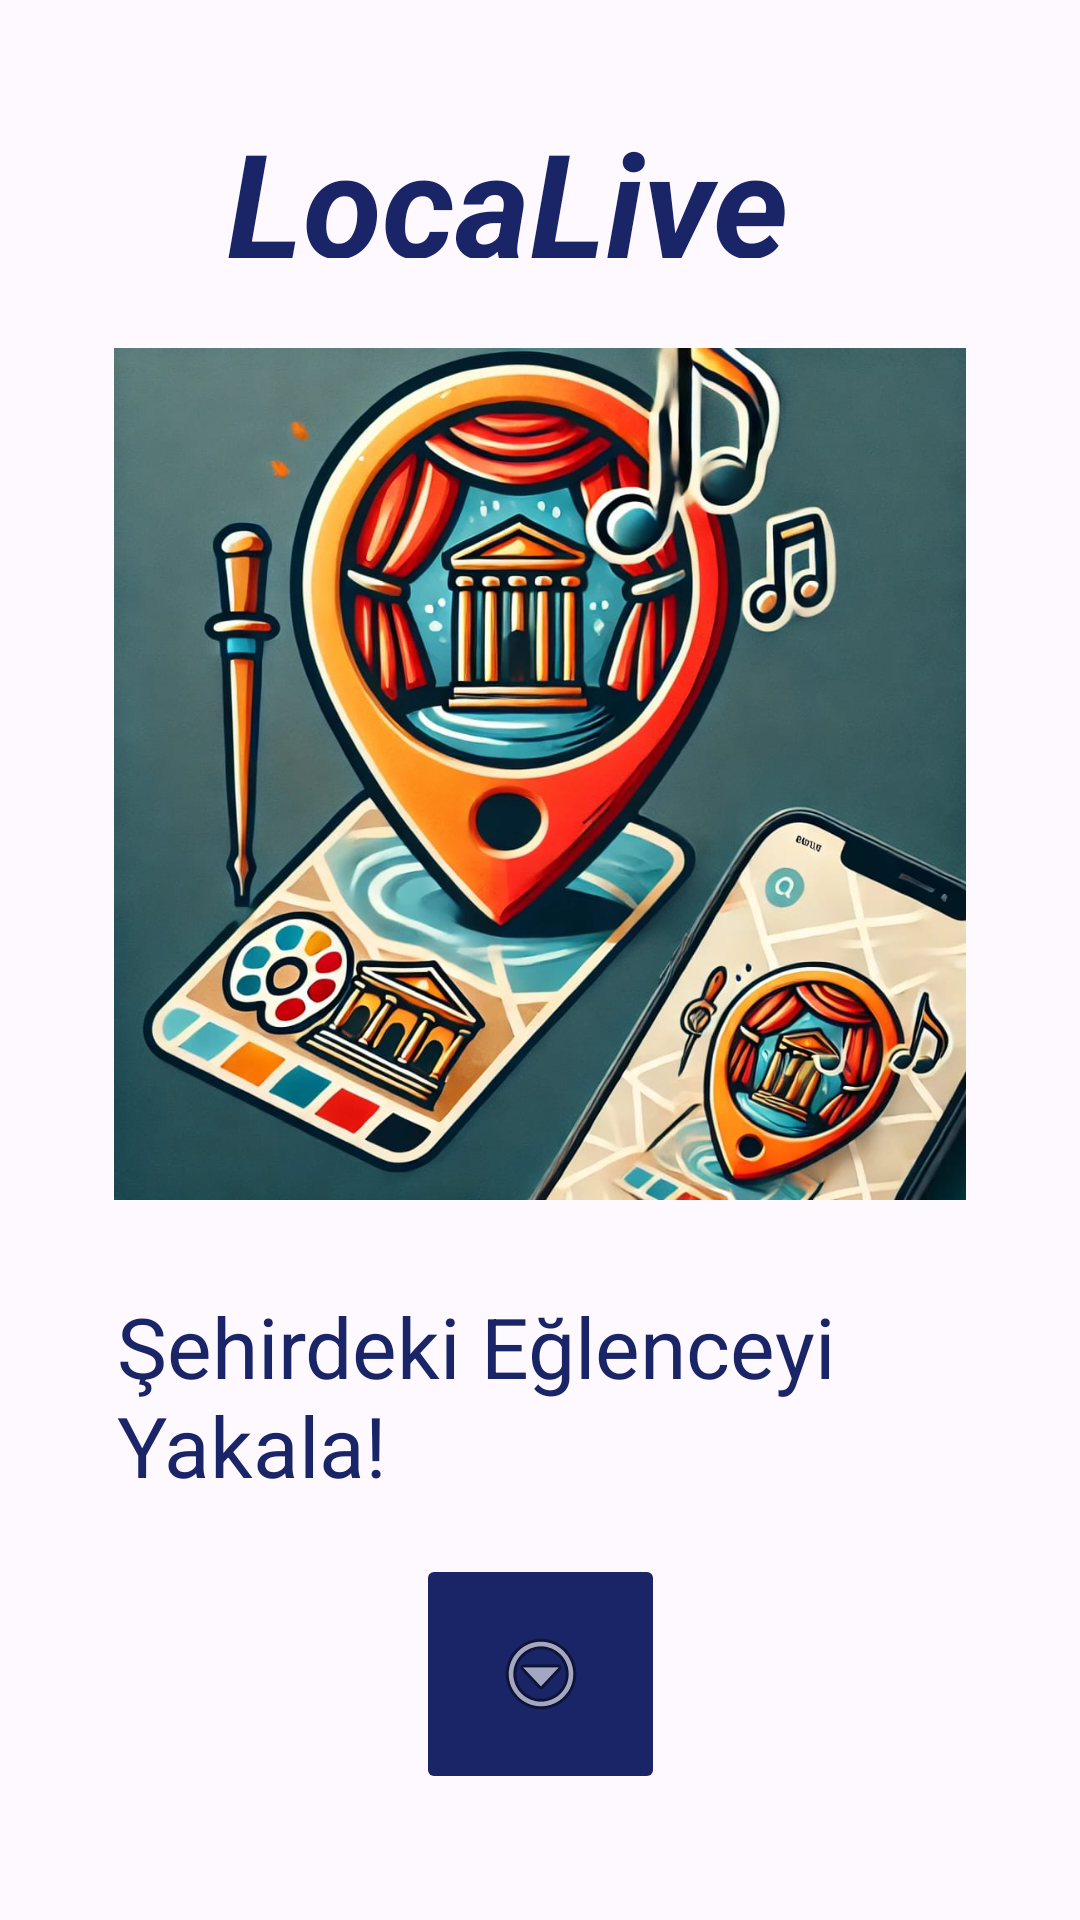

Where icons sit on this 1080px x 1920px app screen, as (x1, y1, x2, y2):
more: (428, 1572, 653, 1776)
